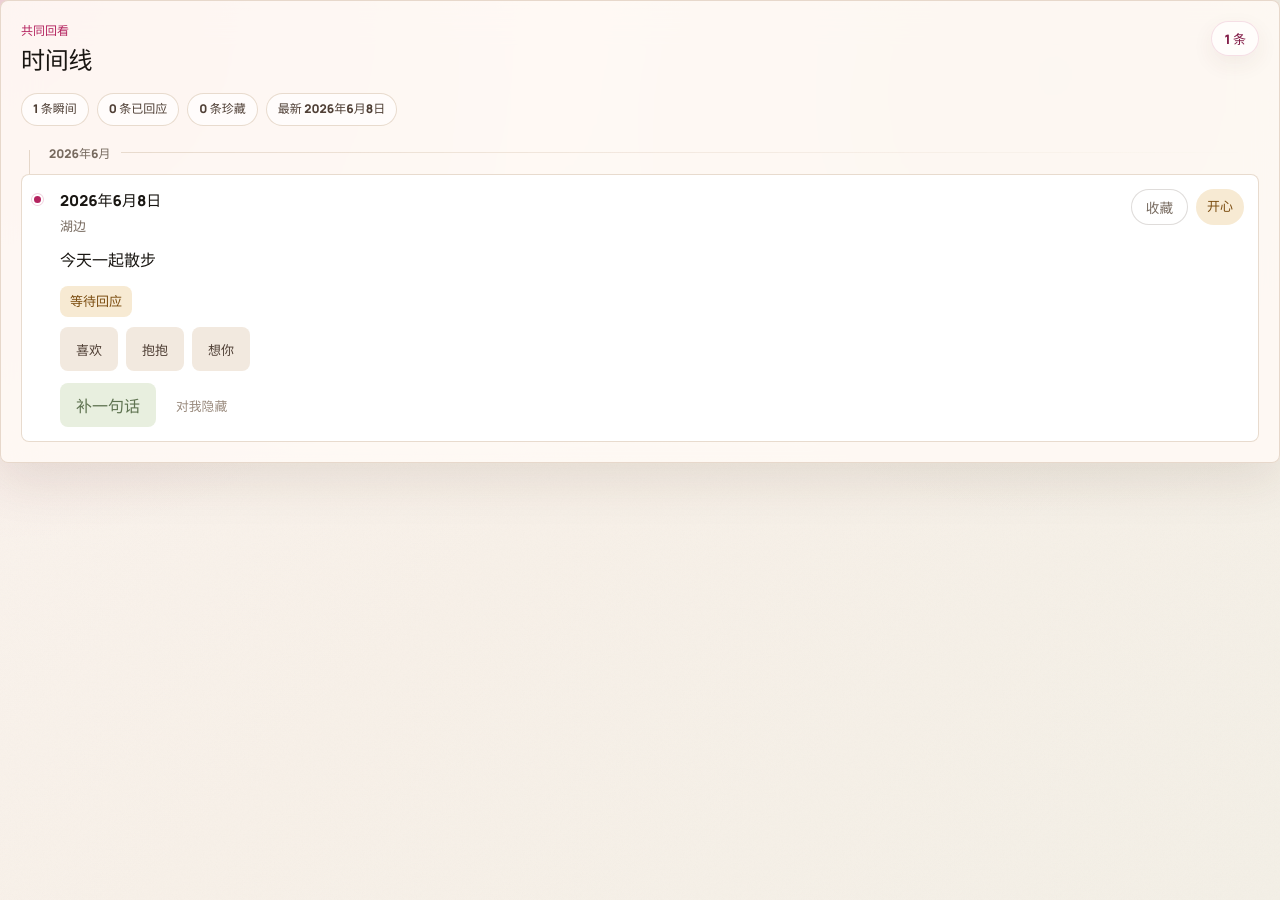
Test: Timeline actions › lets the non-creator add a partner reply
Click the button "补一句话". click: x=108, y=405
box: [60,383,156,427]
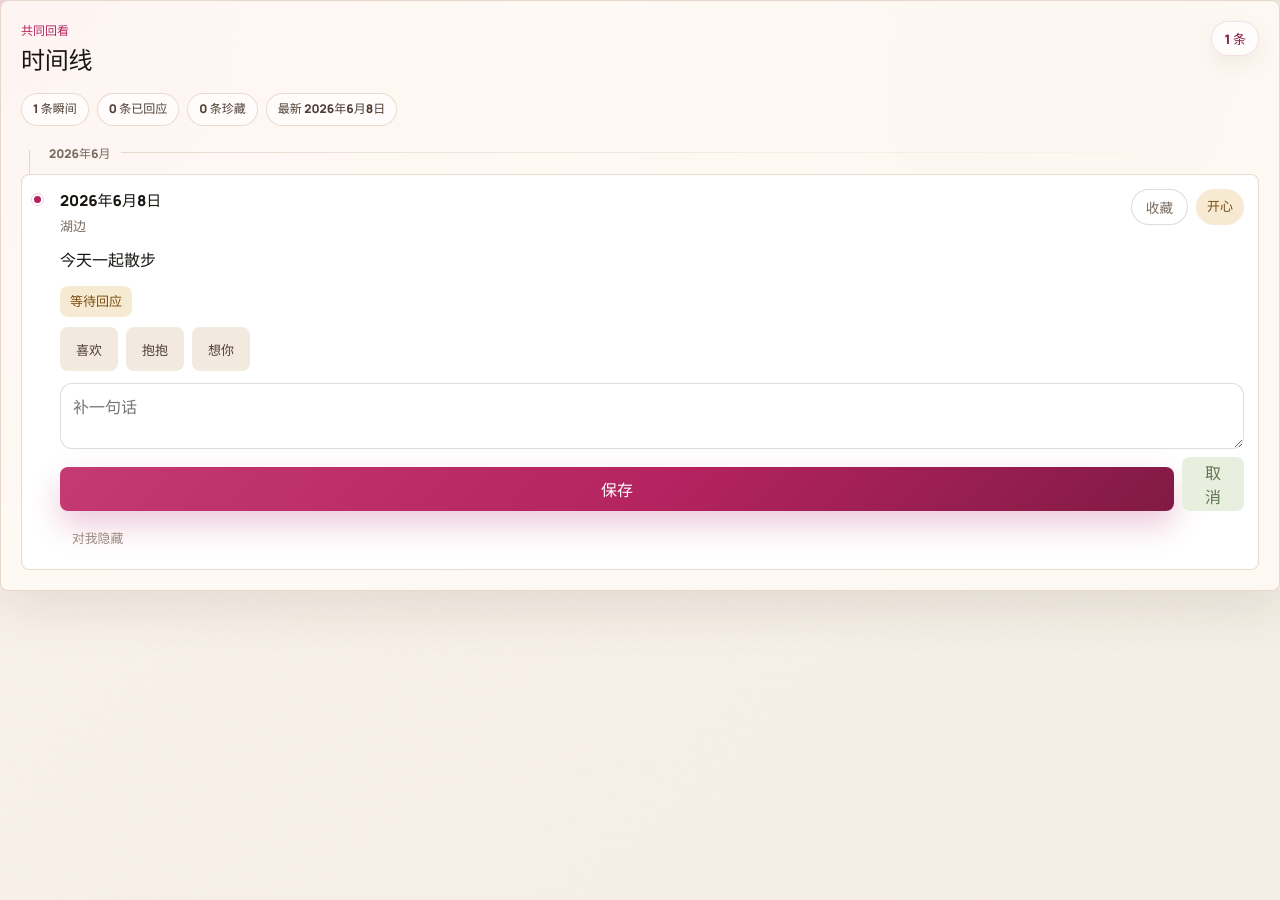
Type "下次还一起去" into the text box with placeholder "补一句话". click: x=652, y=416
box: [60,383,1244,449]
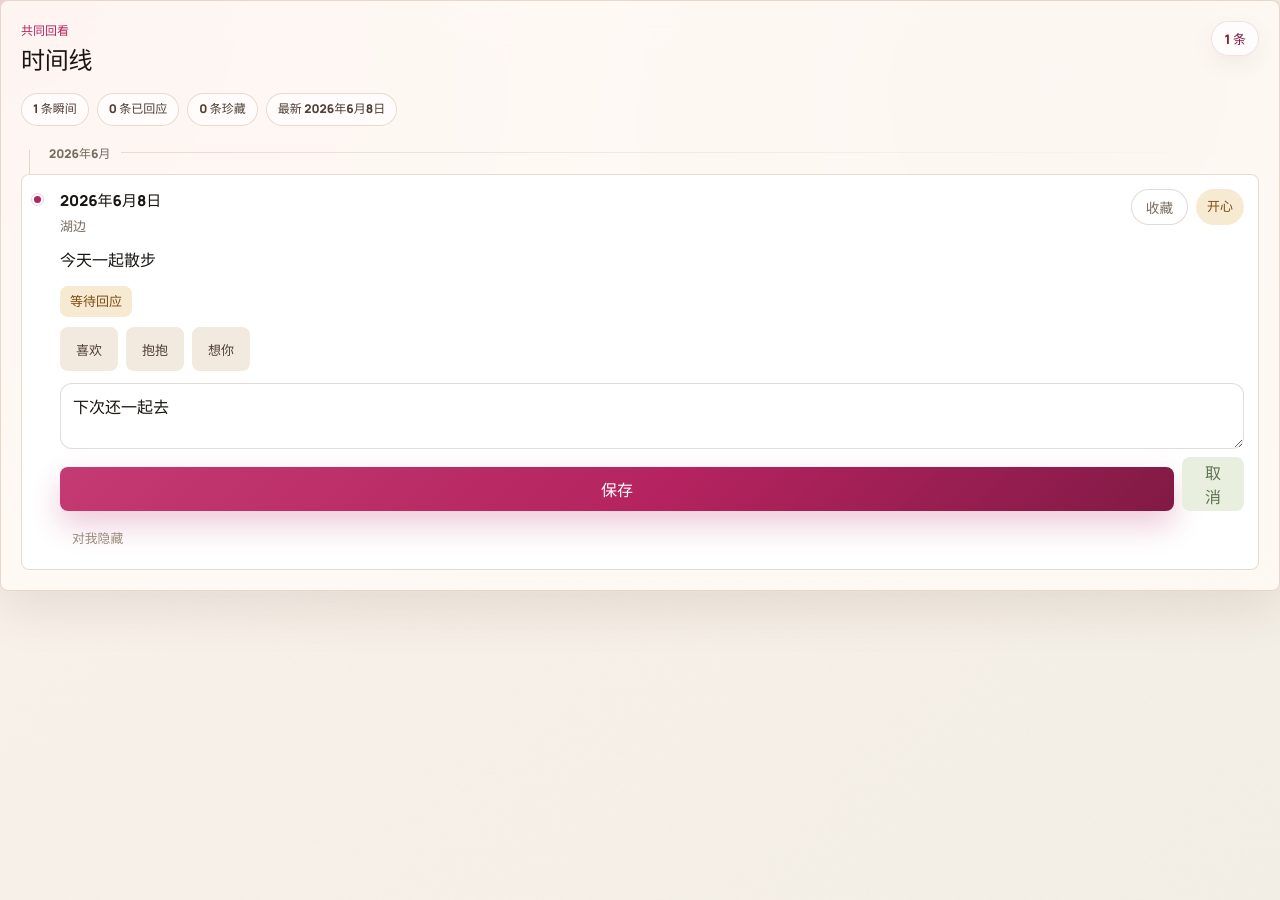
Click the button "保存". click: x=617, y=489
box: [60,467,1174,511]
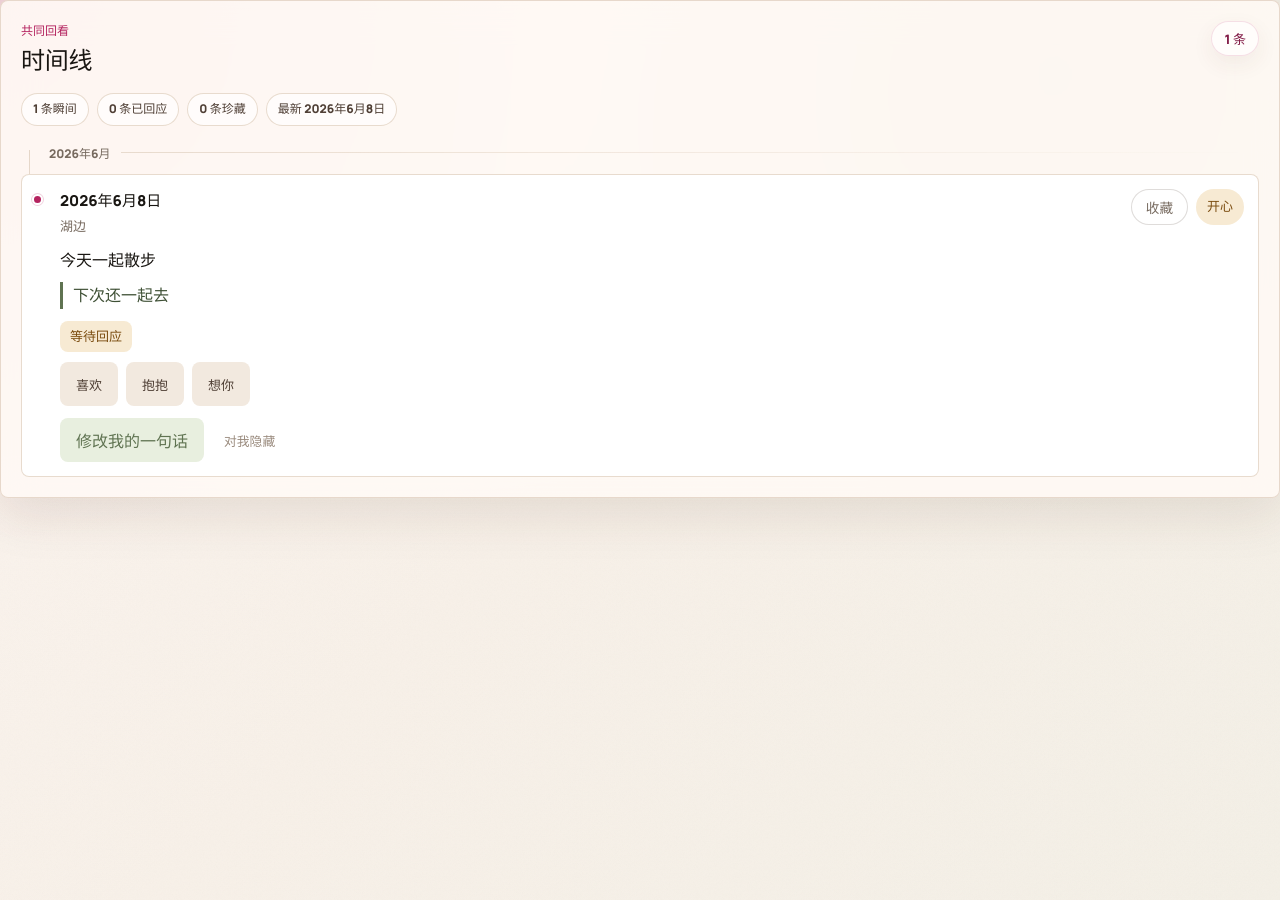
Result: the text "下次还一起去" is shown at [60,282,1244,309]
